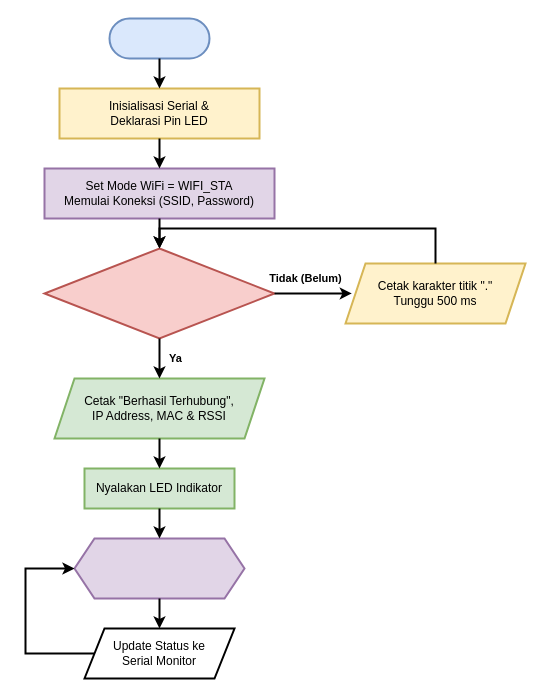
Some shapes in this 543 by 696 pixel diagram are drawn without their labels. The centre of each missing label's shape, as x and y in pixels:
"Cek Status Koneksi Setiap 5 Detik" belongs at point (159, 568).
"Koneksi Berhasil? (WiFi.status == CONNECTED)" belongs at point (159, 293).
"Mulai" belongs at point (159, 38).
